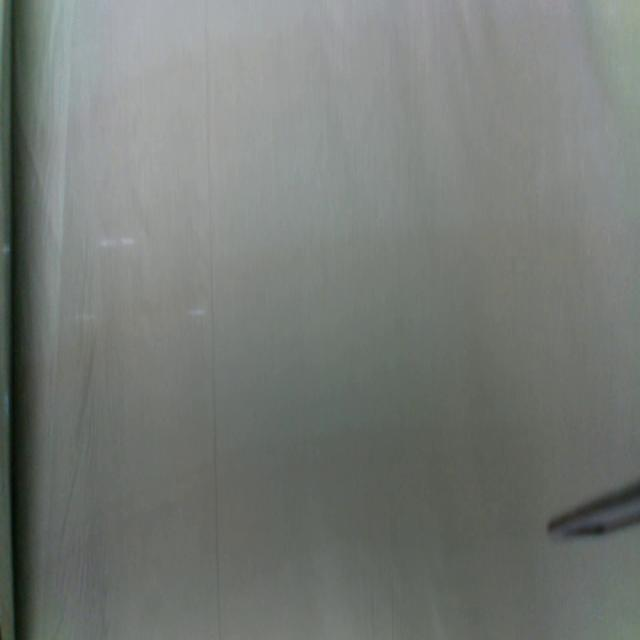crease: (204, 28, 223, 640)
